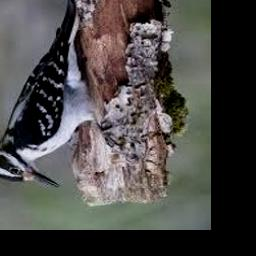Woodpecker: (0, 0, 96, 188)
